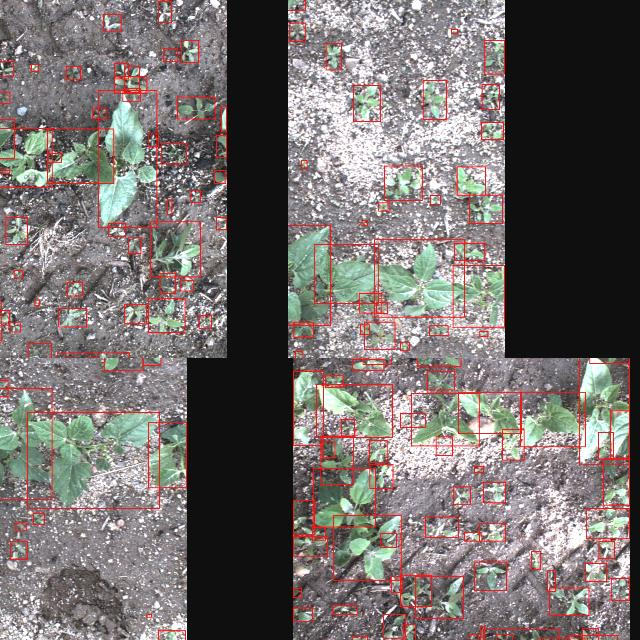crop: (27, 412, 159, 508), (99, 90, 158, 228), (375, 240, 465, 316), (0, 388, 51, 499), (580, 358, 630, 464), (288, 225, 330, 325), (316, 384, 392, 438), (314, 244, 378, 304), (48, 128, 114, 184), (520, 392, 586, 446), (411, 394, 479, 446), (453, 266, 505, 326), (0, 128, 52, 187), (458, 392, 522, 434), (149, 422, 187, 488), (293, 371, 323, 445), (610, 410, 630, 458), (0, 119, 14, 158), (217, 134, 227, 158), (288, 0, 305, 10), (222, 106, 226, 132)
weed: (333, 516, 401, 580), (312, 468, 376, 528), (150, 222, 200, 276), (415, 576, 463, 618), (321, 436, 354, 484), (586, 509, 630, 539), (148, 299, 186, 333), (384, 166, 422, 200), (604, 459, 630, 505), (549, 588, 589, 614), (401, 575, 432, 607), (354, 85, 381, 121), (423, 80, 447, 120), (470, 195, 502, 223), (474, 562, 506, 590), (365, 322, 395, 350), (177, 97, 215, 119), (458, 167, 487, 195), (292, 500, 314, 534), (426, 516, 458, 538), (485, 40, 505, 74), (293, 536, 327, 556), (502, 430, 524, 460), (114, 76, 148, 94), (5, 218, 27, 245), (427, 372, 455, 391), (370, 464, 392, 488), (383, 614, 405, 638), (455, 243, 485, 260), (58, 308, 86, 326), (162, 144, 186, 164), (358, 293, 382, 313), (482, 84, 500, 110), (104, 358, 143, 370), (598, 432, 614, 460), (124, 304, 146, 324), (483, 482, 505, 502), (610, 578, 630, 600), (124, 66, 140, 92), (479, 524, 505, 540), (482, 122, 504, 140), (369, 440, 387, 462), (326, 44, 340, 70), (27, 343, 51, 358), (586, 563, 606, 581), (182, 40, 198, 62), (160, 272, 176, 294), (417, 358, 461, 366), (400, 413, 424, 427), (10, 541, 28, 559), (352, 360, 384, 370), (436, 436, 452, 456), (103, 14, 121, 31), (454, 486, 471, 504), (158, 1, 172, 22), (293, 322, 313, 336), (158, 630, 185, 640), (123, 88, 141, 102), (290, 23, 304, 41), (292, 608, 312, 620), (114, 63, 128, 79), (128, 238, 142, 254), (600, 542, 614, 558), (380, 533, 396, 547), (325, 376, 343, 388), (0, 61, 14, 76), (108, 224, 125, 236), (164, 48, 178, 62), (66, 66, 80, 80), (68, 282, 82, 296), (342, 420, 354, 436), (322, 442, 334, 458), (332, 606, 356, 614), (582, 628, 598, 640), (429, 326, 448, 336), (464, 532, 482, 542), (391, 576, 402, 592), (403, 624, 414, 640), (547, 570, 555, 592), (198, 316, 212, 328), (363, 358, 391, 364), (214, 170, 226, 183), (92, 108, 106, 119), (181, 280, 193, 292), (376, 302, 388, 314), (312, 528, 324, 540), (532, 551, 540, 569), (0, 310, 9, 325), (143, 358, 161, 365), (148, 134, 158, 146), (191, 191, 201, 203), (217, 217, 227, 229), (0, 379, 7, 396), (47, 154, 61, 162), (0, 92, 9, 104), (495, 634, 512, 640), (10, 322, 20, 332), (360, 324, 370, 334), (34, 514, 44, 524), (400, 342, 410, 351), (378, 203, 388, 211), (430, 196, 440, 204), (16, 522, 26, 530), (293, 588, 301, 598), (30, 64, 38, 72), (14, 270, 22, 278), (474, 466, 484, 472), (168, 200, 172, 214), (480, 626, 484, 640), (352, 636, 366, 640), (294, 351, 301, 358), (480, 331, 488, 337), (469, 635, 478, 640), (0, 170, 9, 174), (34, 300, 40, 306), (362, 220, 368, 226), (302, 160, 306, 168), (452, 30, 458, 34), (146, 614, 152, 618), (87, 357, 99, 358)
